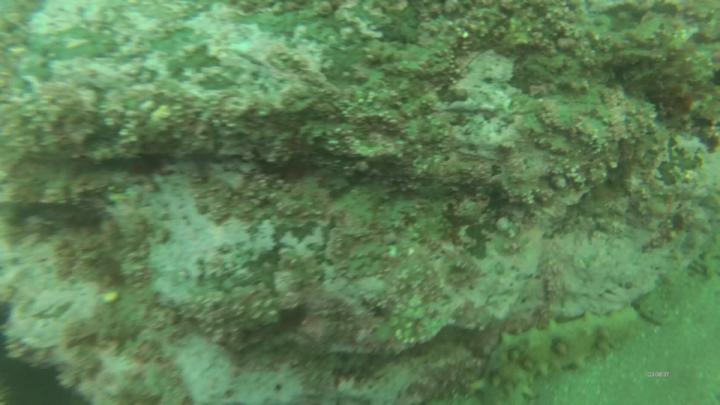holothurian: (484, 311, 639, 398)
